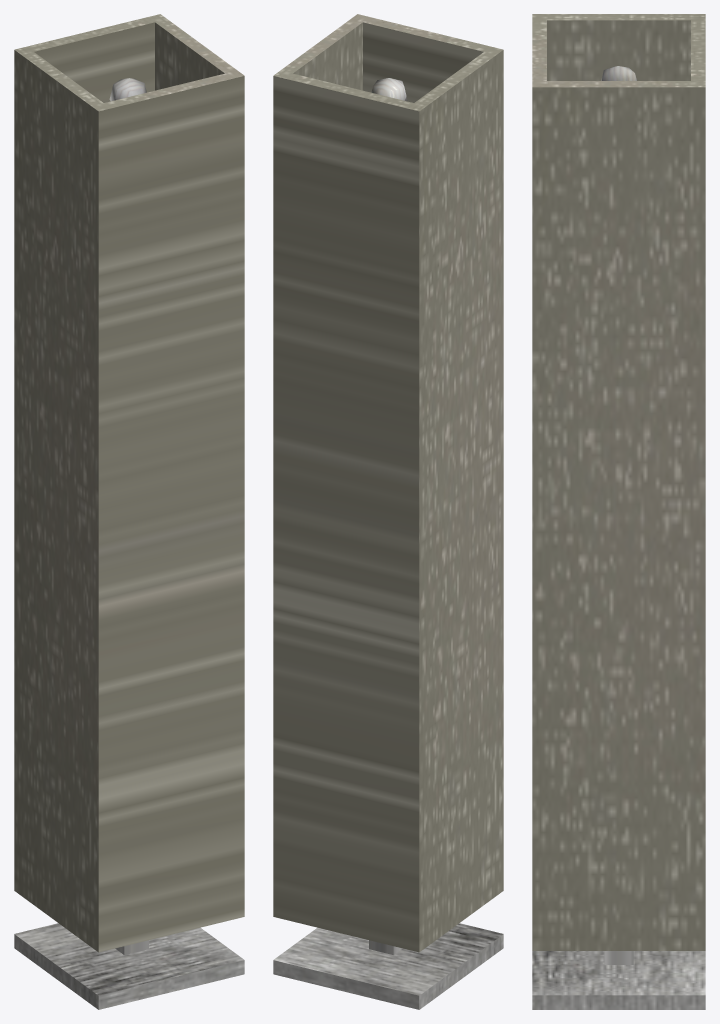
File: lamp2.FBX
3 renders of one model, left to right at view 1: azimuth 30°, elevation 25°; view 2: azimuth 150°, elevation 25°; view 3: azimuth 270°, elevation 25°, orthographic. The views are drawn at different scales.
Parts seen in each view (by area): view 1: Object001, Box001, Sphere001; view 2: Object001, Box001, Sphere001; view 3: Object001, Box001, Sphere001.
Part boxes in pixels (x1=…): Object001: x1=14, y1=14, x2=244, y2=952; Box001: x1=14, y1=923, x2=244, y2=1009; Sphere001: x1=109, y1=78, x2=146, y2=101; Object001: x1=273, y1=14, x2=503, y2=952; Box001: x1=273, y1=923, x2=503, y2=1009; Sphere001: x1=371, y1=78, x2=407, y2=101; Object001: x1=532, y1=14, x2=705, y2=950; Box001: x1=532, y1=951, x2=705, y2=1009; Sphere001: x1=601, y1=66, x2=636, y2=80.
Size of the model in its own units: 181 by 1063 by 181.
3 materials, 3 textured.
